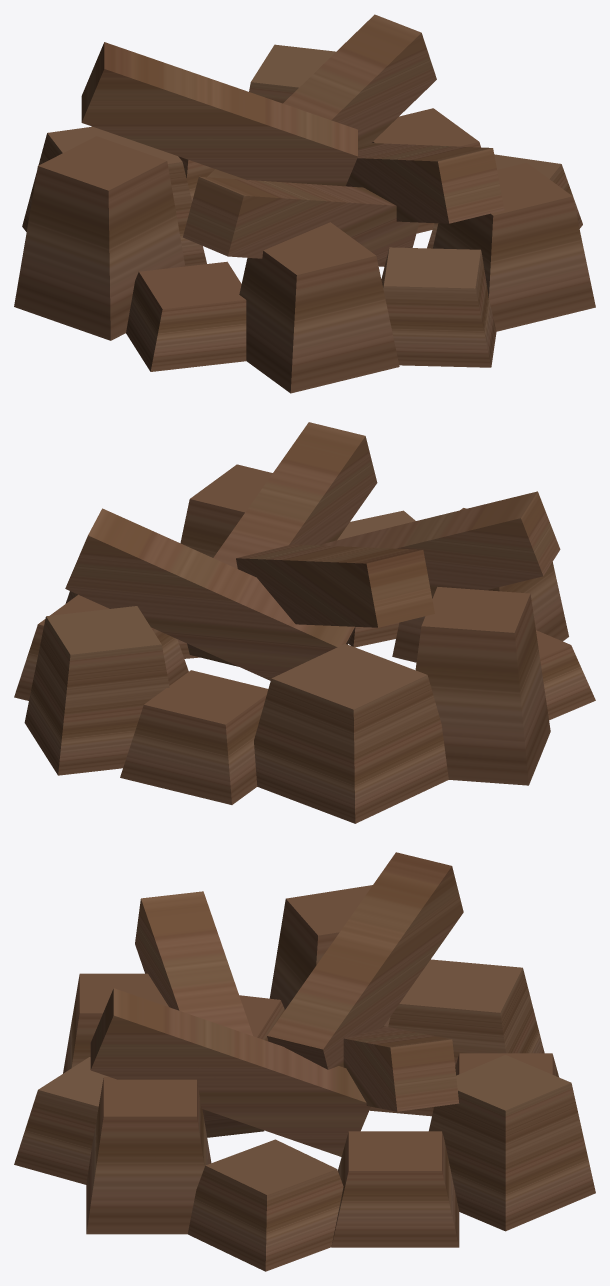
The model's file is unggun.obj.
The picture shows the model from 3 angles, top to bottom: view 1: azimuth 30°, elevation 25°; view 2: azimuth 150°, elevation 25°; view 3: azimuth 270°, elevation 25°; orthographic projection. The views are drawn at different scales.
Parts seen in each view (by area): view 1: campfire-pit, wood; view 2: campfire-pit, wood; view 3: campfire-pit, wood.
Boxes of the visible parts, bbox=[...] form: campfire-pit: bbox=[14, 44, 595, 393]; wood: bbox=[81, 14, 504, 266]; campfire-pit: bbox=[14, 464, 595, 823]; wood: bbox=[65, 422, 560, 680]; campfire-pit: bbox=[14, 885, 595, 1271]; wood: bbox=[90, 852, 463, 1156].
Size of the model in its own units: 0.2778 by 0.1091 by 0.2692.
